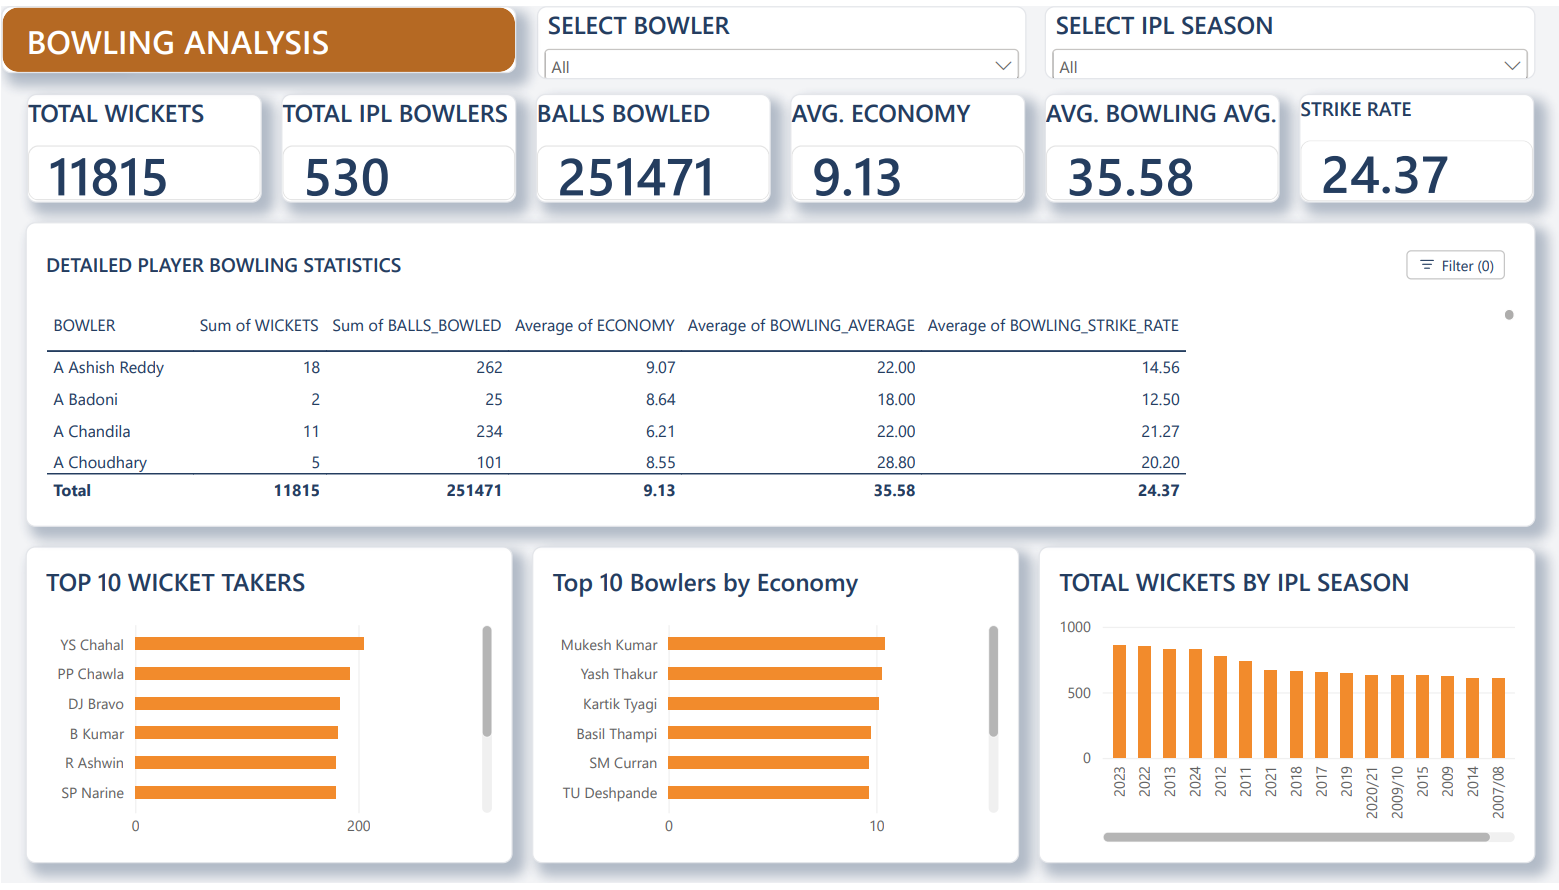

The page's visual inventory and layout, read from the dashboard file:
{"tool":"powerbi","page":{"name":"Bowling Analysis","canvas":[1280,720],"ordinal":2},"visuals":[{"type":"cardVisual","title":"TOTAL WICKETS","fields":{"Data":["Sum(VW_PLAYER_BOWLING.WICKETS)"]},"box":[21,72,193,90],"z":0},{"type":"cardVisual","title":"TOTAL IPL BOWLERS","fields":{"Data":["Count(VW_PLAYER_BOWLING.BOWLER)"]},"box":[230,72,193,90],"z":1},{"type":"cardVisual","title":" BALLS BOWLED","fields":{"Data":["Sum(VW_PLAYER_BOWLING.BALLS_BOWLED)"]},"box":[439,72,193,90],"z":2},{"type":"cardVisual","title":"AVG. ECONOMY","fields":{"Data":["Avg(VW_PLAYER_BOWLING.ECONOMY)"]},"box":[648,72,193,90],"z":3},{"type":"cardVisual","title":"AVG. BOWLING AVG.","fields":{"Data":["Avg(VW_PLAYER_BOWLING.BOWLING_AVERAGE)"]},"box":[857,72,193,90],"z":4},{"type":"cardVisual","title":"STRIKE RATE","fields":{"Data":["Avg(VW_PLAYER_BOWLING.BOWLING_STRIKE_RATE)"]},"box":[1066,72,193,90],"z":5},{"type":"clusteredBarChart","title":"TOP 10 WICKET TAKERS","fields":{"Category":["VW_PLAYER_BOWLING.BOWLER"],"Y":["Sum(VW_PLAYER_BOWLING.WICKETS)"]},"box":[20,444,400,260],"z":6},{"type":"clusteredBarChart","title":"Top 10 Bowlers by Economy","fields":{"Category":["VW_PLAYER_BOWLING.BOWLER"],"Y":["Avg(VW_PLAYER_BOWLING.ECONOMY)"]},"box":[436,444.3,400,260],"z":7},{"type":"clusteredColumnChart","title":"TOTAL WICKETS BY IPL SEASON","fields":{"Category":["VW_SEASON_BOWLING.SEASON"],"Y":["Sum(VW_SEASON_BOWLING.WICKETS)"]},"box":[852,444,408,260],"z":8},{"type":"tableEx","title":"DETAILED PLAYER BOWLING STATISTICS","fields":{"Values":["VW_PLAYER_BOWLING.BOWLER","Sum(VW_PLAYER_BOWLING.WICKETS)","Sum(VW_PLAYER_BOWLING.BALLS_BOWLED)","Avg(VW_PLAYER_BOWLING.ECONOMY)","Avg(VW_PLAYER_BOWLING.BOWLING_AVERAGE)","Avg(VW_PLAYER_BOWLING.BOWLING_STRIKE_RATE)"]},"box":[20,178,1240,250],"z":9},{"type":"actionButton","box":[0,0,100,40],"z":10},{"type":"slicer","fields":{"Values":["VW_DIM_SEASON.SEASON"]},"box":[856.7,0,403.3,60],"z":11},{"type":"slicer","fields":{"Values":["VW_DIM_PLAYER.PLAYER_NAME"]},"box":[440,0,401.7,60],"z":12},{"type":"shape","box":[0,0,423.3,55],"z":13},{"type":"textbox","box":[21.4,10,258.6,38.6],"z":14}]}

Visuals, with their boxes in screenshot pixels (x1, y1, x2, y2), scaled from the page's 1280x720 canvas onto the 1559x890 screenshot:
"TOTAL WICKETS" cardVisual: box(26, 89, 261, 200)
"TOTAL IPL BOWLERS" cardVisual: box(280, 89, 515, 200)
" BALLS BOWLED" cardVisual: box(535, 89, 770, 200)
"AVG. ECONOMY" cardVisual: box(789, 89, 1024, 200)
"AVG. BOWLING AVG." cardVisual: box(1044, 89, 1279, 200)
"STRIKE RATE" cardVisual: box(1298, 89, 1533, 200)
"TOP 10 WICKET TAKERS" clusteredBarChart: box(24, 549, 512, 870)
"Top 10 Bowlers by Economy" clusteredBarChart: box(531, 549, 1018, 871)
"TOTAL WICKETS BY IPL SEASON" clusteredColumnChart: box(1038, 549, 1535, 870)
"DETAILED PLAYER BOWLING STATISTICS" tableEx: box(24, 220, 1535, 529)
actionButton: box(0, 0, 122, 49)
slicer - VW_DIM_SEASON.SEASON: box(1043, 0, 1535, 74)
slicer - VW_DIM_PLAYER.PLAYER_NAME: box(536, 0, 1025, 74)
shape: box(0, 0, 516, 68)
textbox: box(26, 12, 341, 60)
